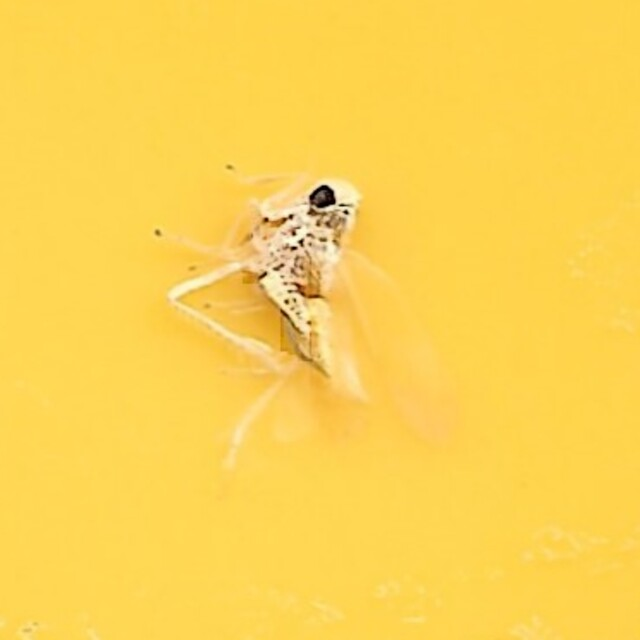Hemiptera: (172, 161, 468, 479)
